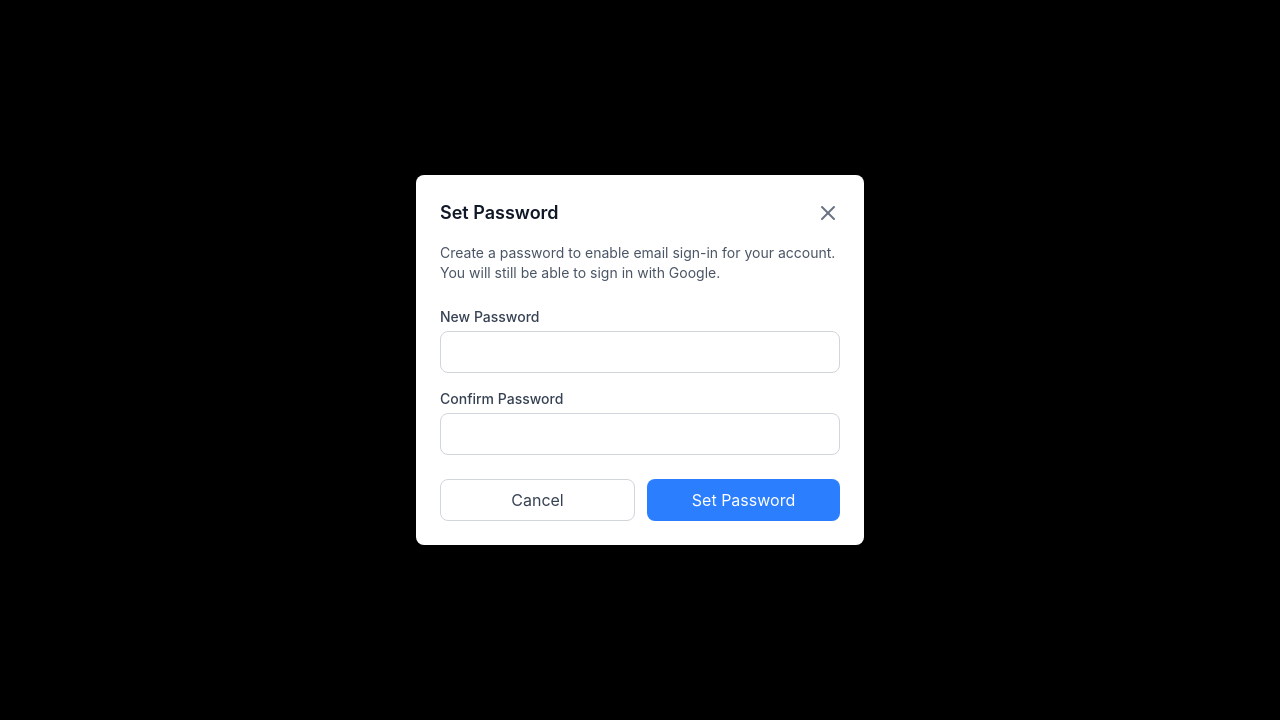
Test: SetPassword Component › should validate matching passwords
Type "password123" into the password field labelled "New Password".
click(640, 352); type("password123")  # box [440,331,840,373]
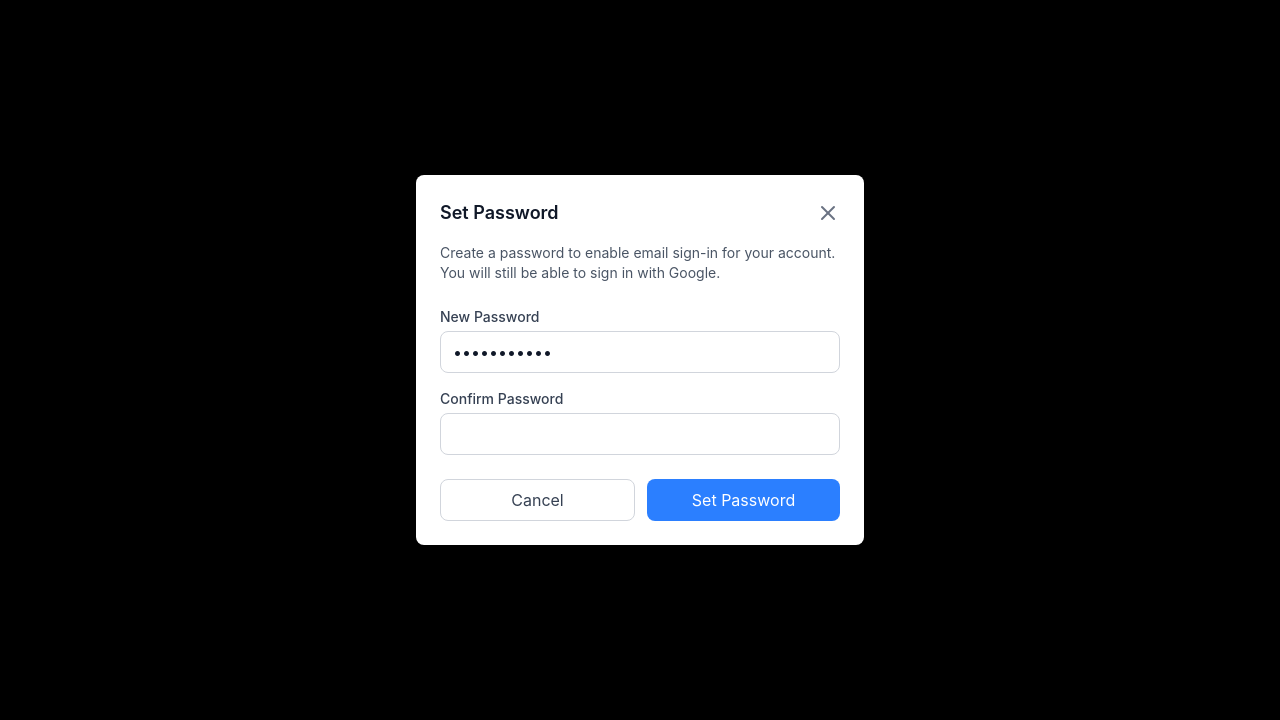
Type "password456" into the password field labelled "Confirm Password".
click(640, 434); type("password456")  # box [440,413,840,455]
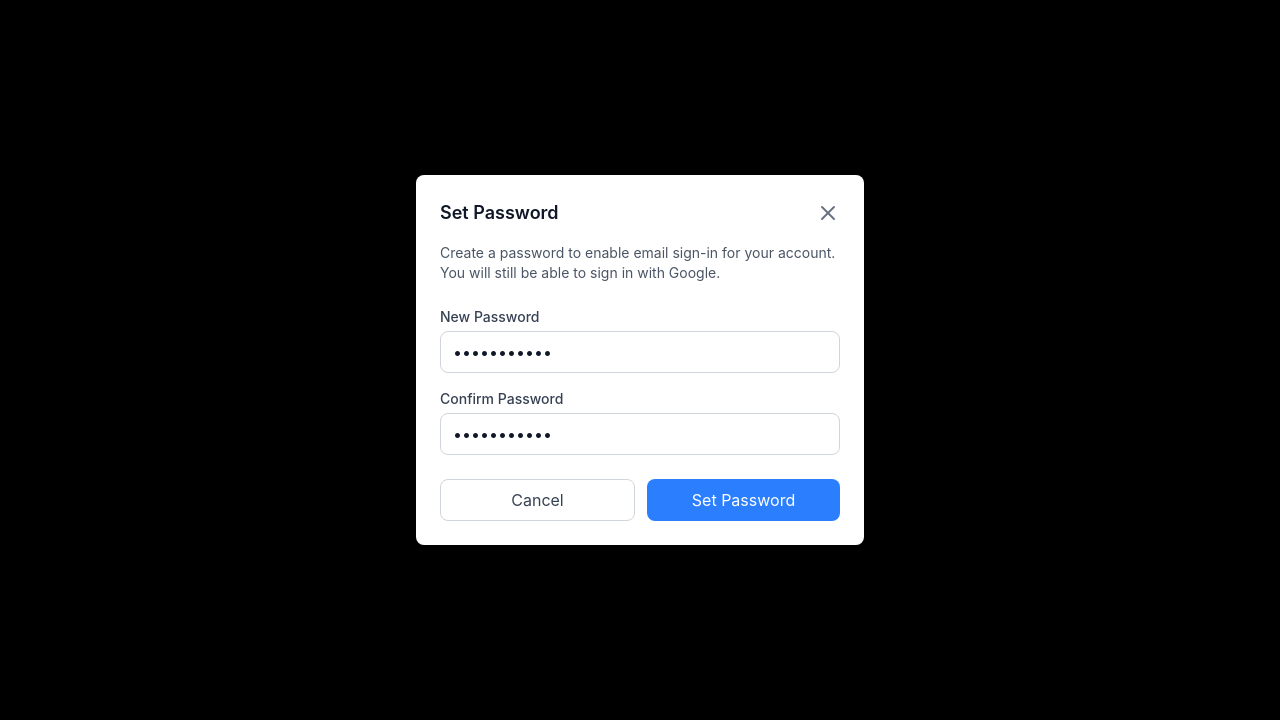
Click the button "Set Password".
click(744, 500)  # box [647,479,840,521]
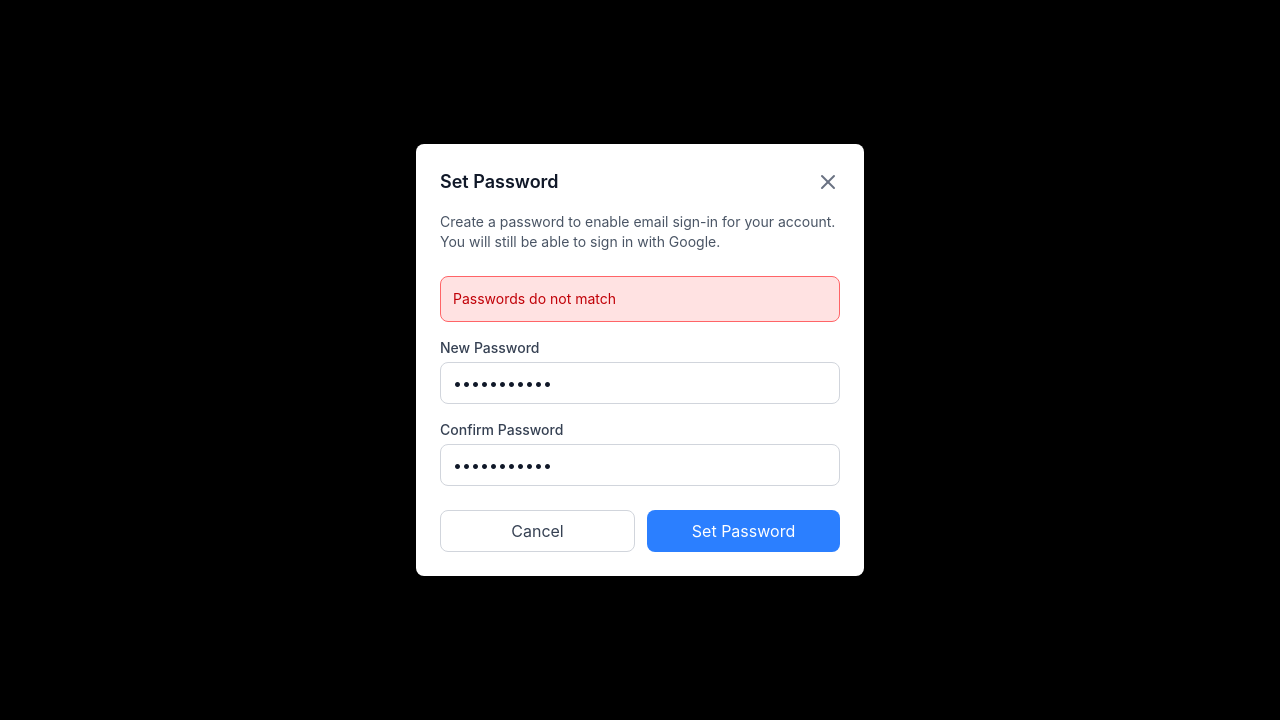
Check: the text "Passwords do not match" is shown, box [440,276,840,322]
